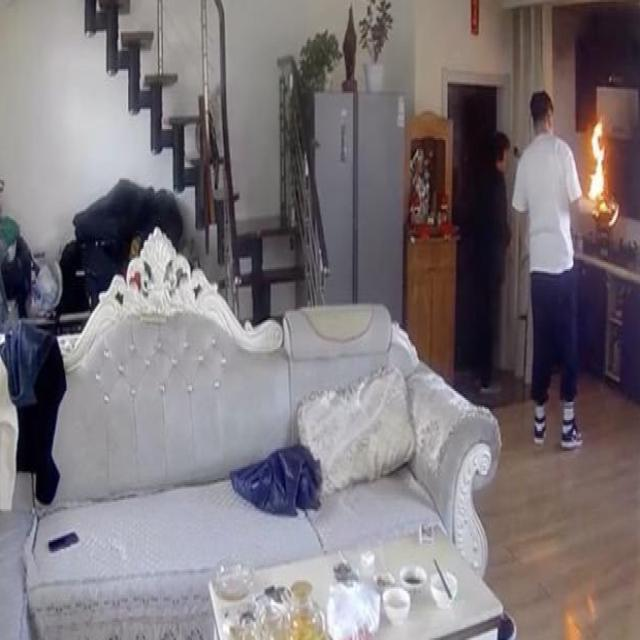smoke: (584, 120, 610, 211)
